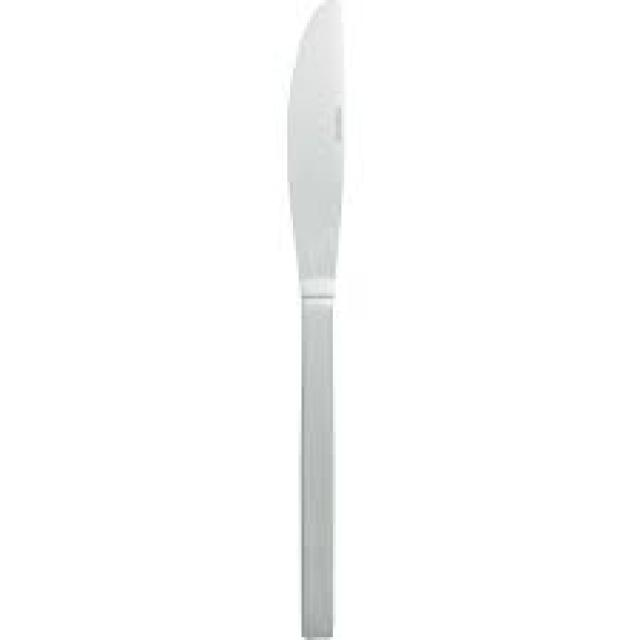knife: (268, 1, 382, 640)
